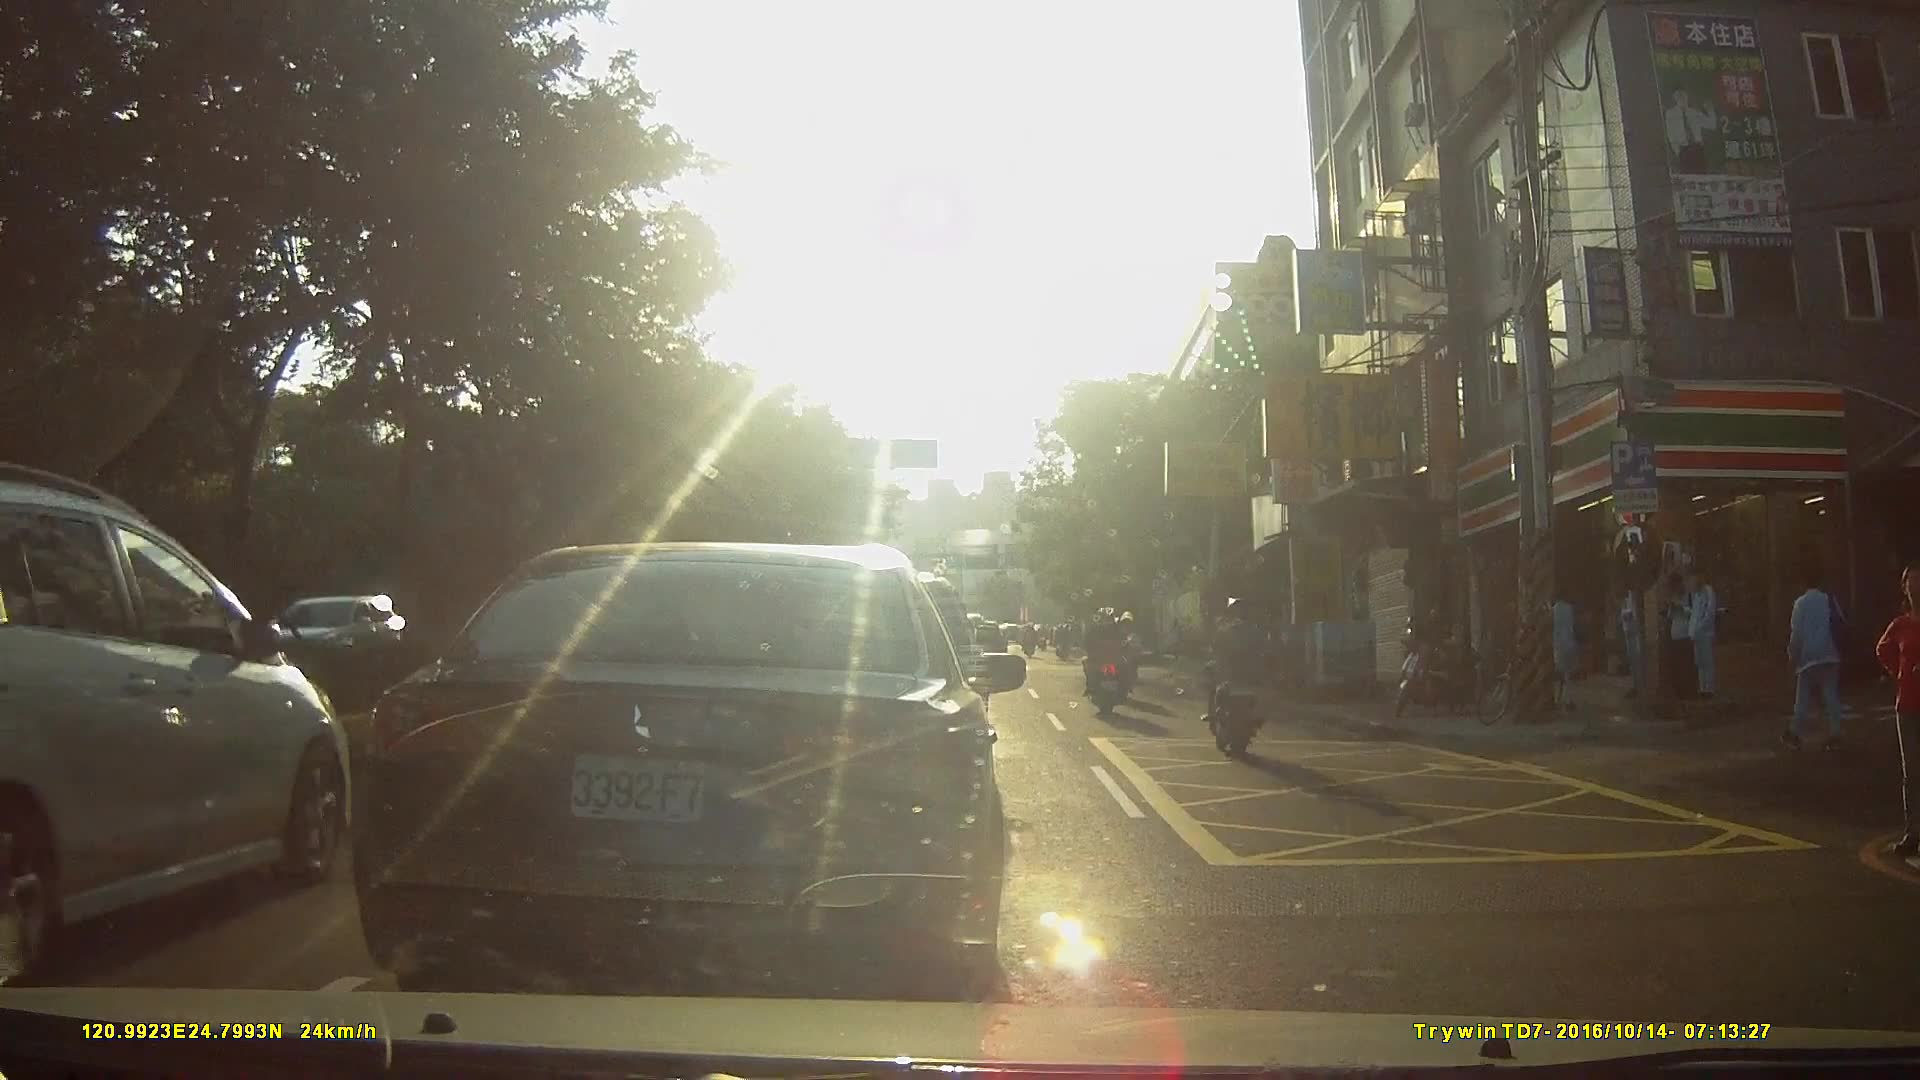pedestrian: (1778, 566, 1853, 758), (1875, 567, 1920, 854), (1529, 579, 1577, 715), (1677, 569, 1720, 700), (1614, 573, 1655, 708), (1662, 567, 1700, 711)
rider: (1202, 595, 1275, 764), (1082, 609, 1133, 717), (1053, 622, 1075, 664), (1020, 624, 1041, 662)
vehicle: (342, 543, 1036, 983), (1, 456, 394, 948)
